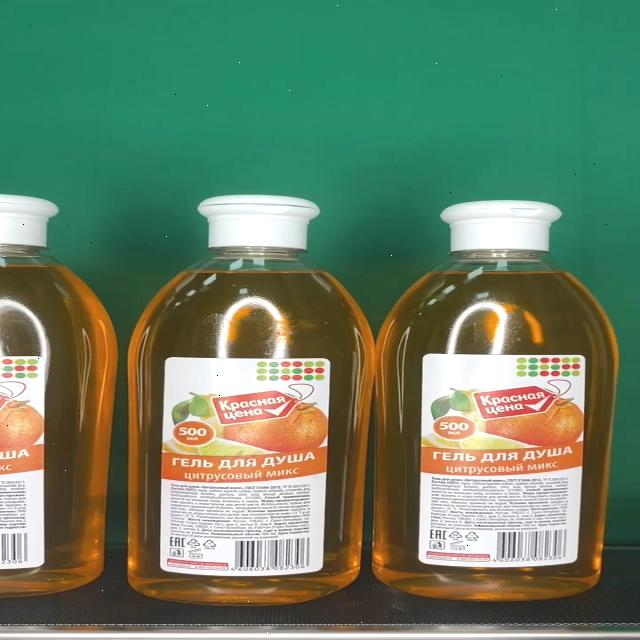Bottle: (129, 196, 377, 605), (373, 200, 618, 600)
Cap: (198, 196, 321, 249), (436, 201, 561, 253)
